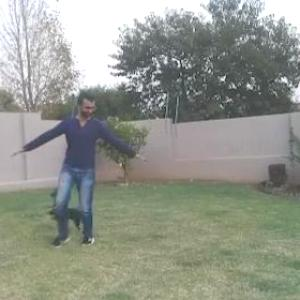land: (45, 93, 157, 226)
